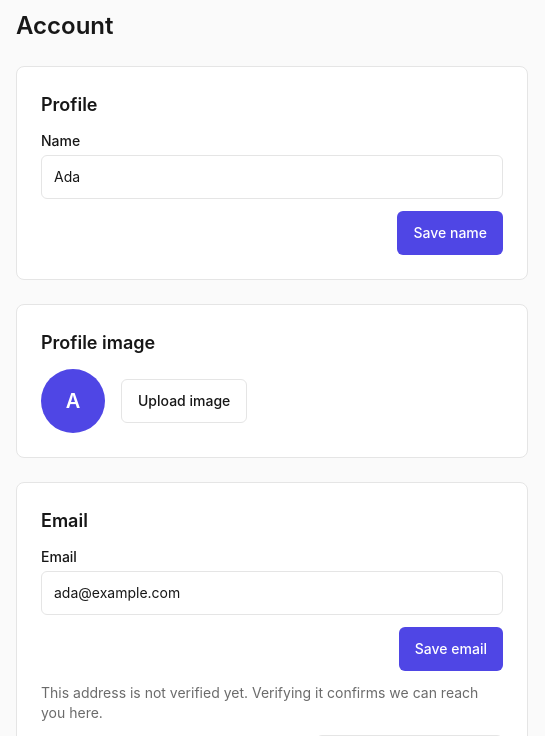
Test: Account › updates the name and reflects it in the session
The width and height of the screenshot is (545, 736).
Replace the text in the field labelled "Name" with "Ada L" at (272, 177), box [41,155,503,199]
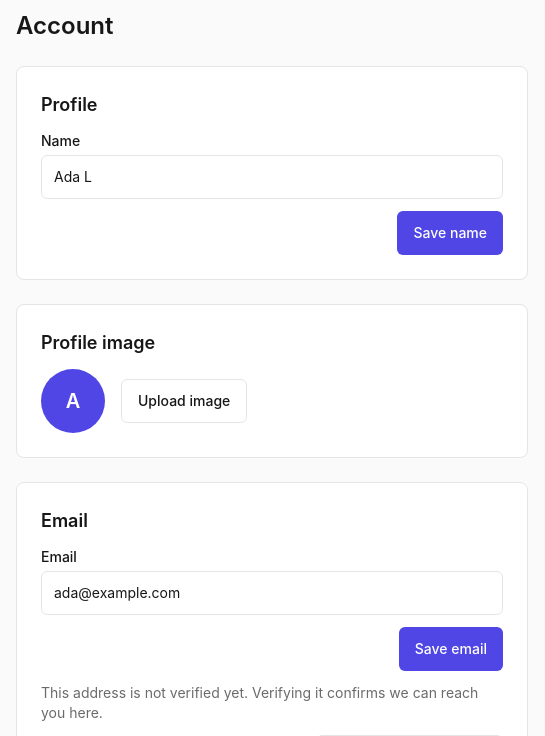
Click the button "Save name" at (450, 233), box [398,211,503,255]
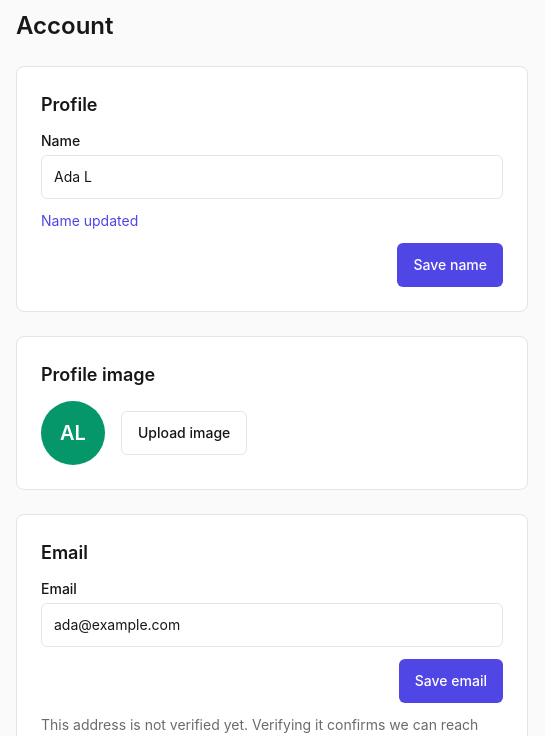
Expected: the text "Name updated" is shown, [41,212,138,229]
